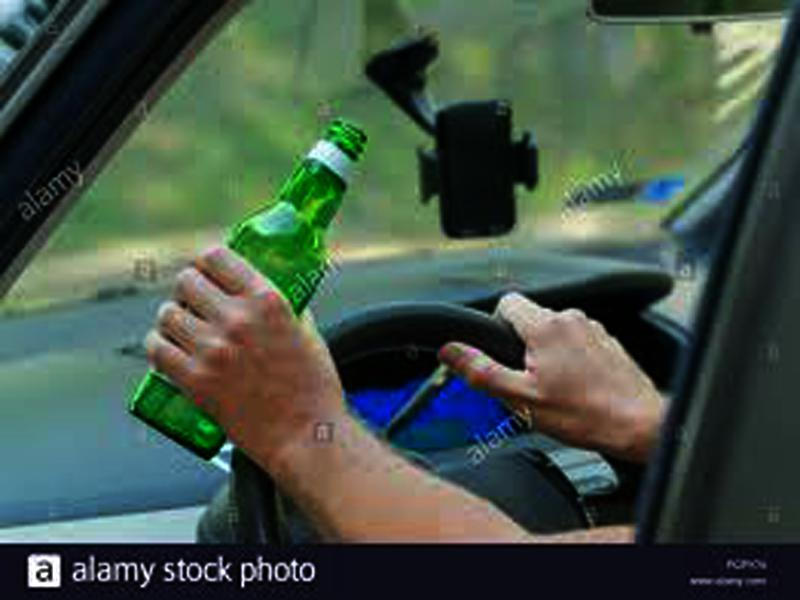Beer: (137, 124, 363, 463)
